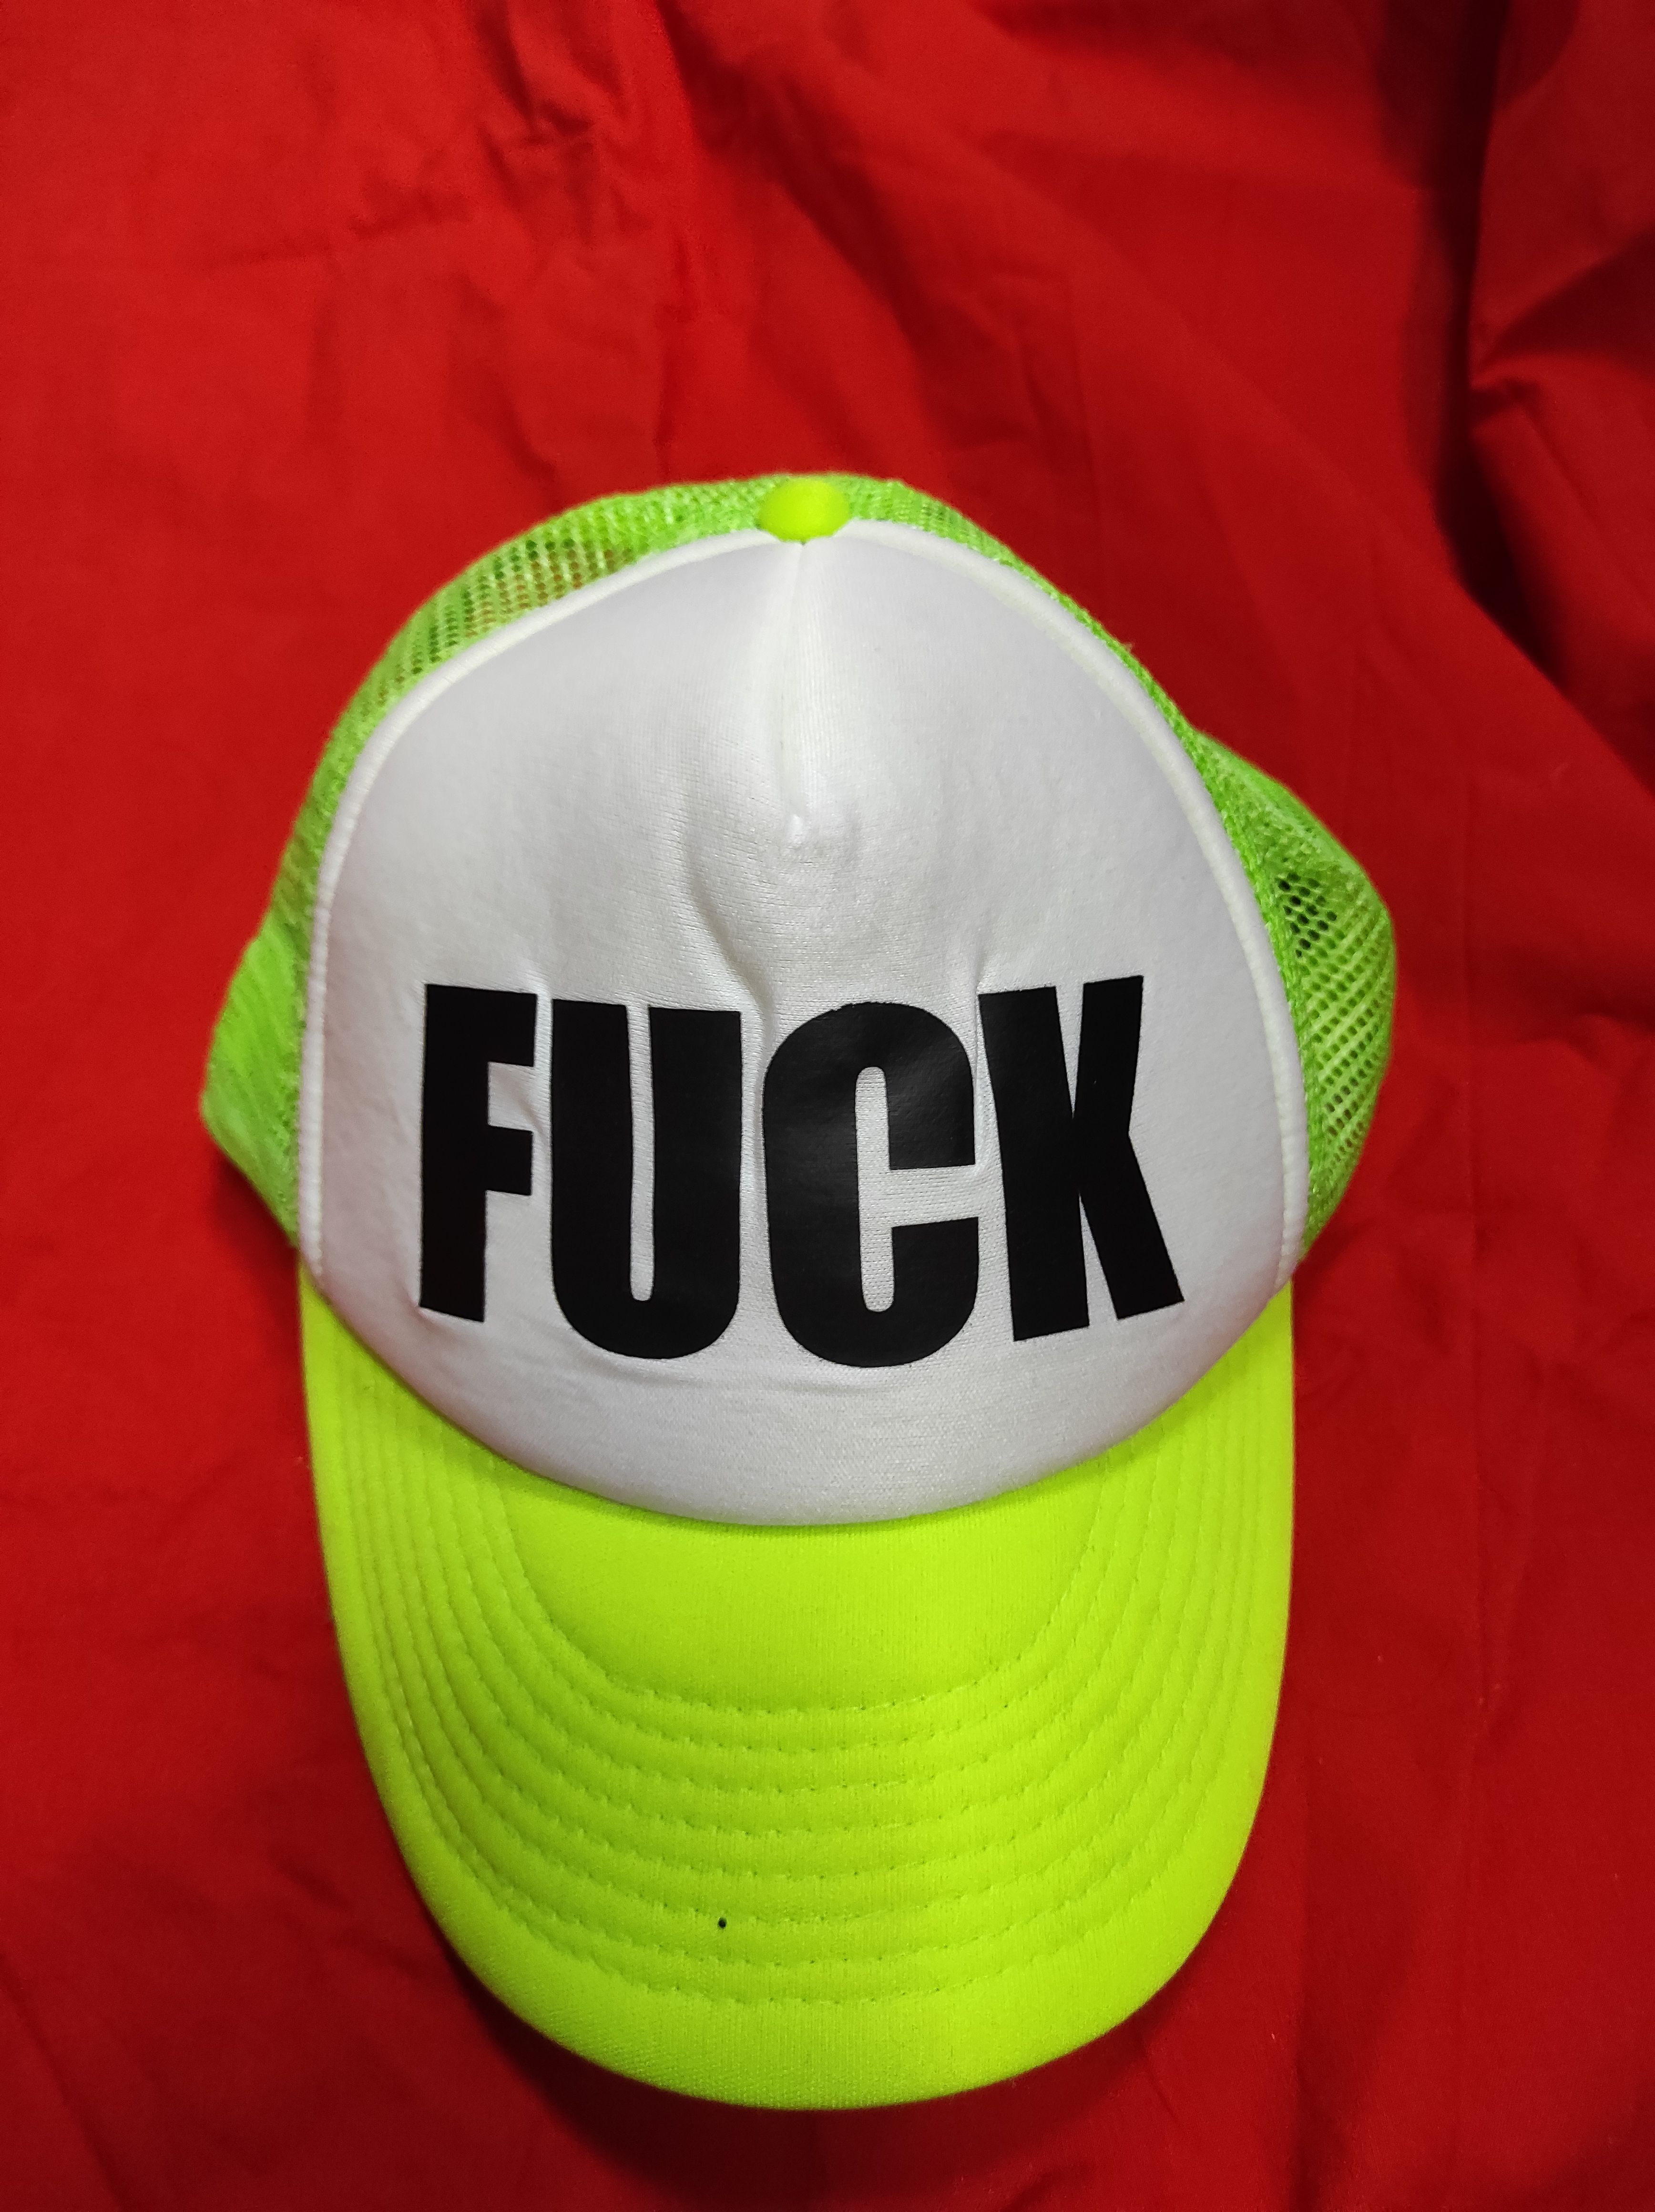clothes: (189, 468, 1408, 2120)
